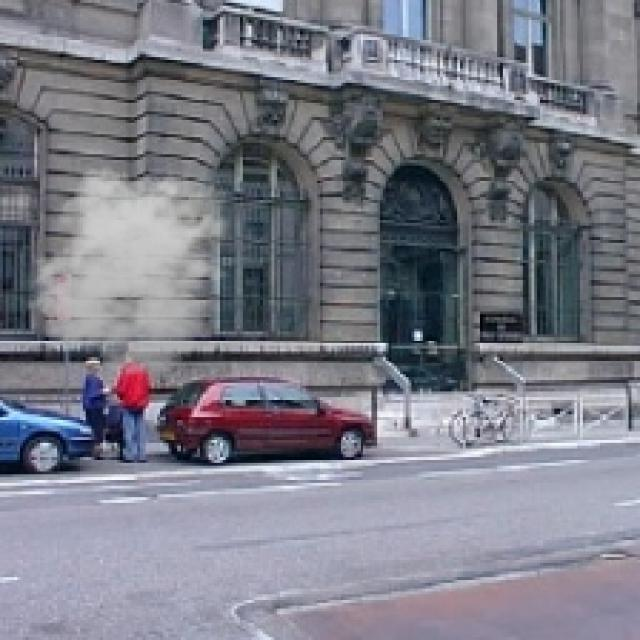Smoke: (26, 160, 243, 377)
